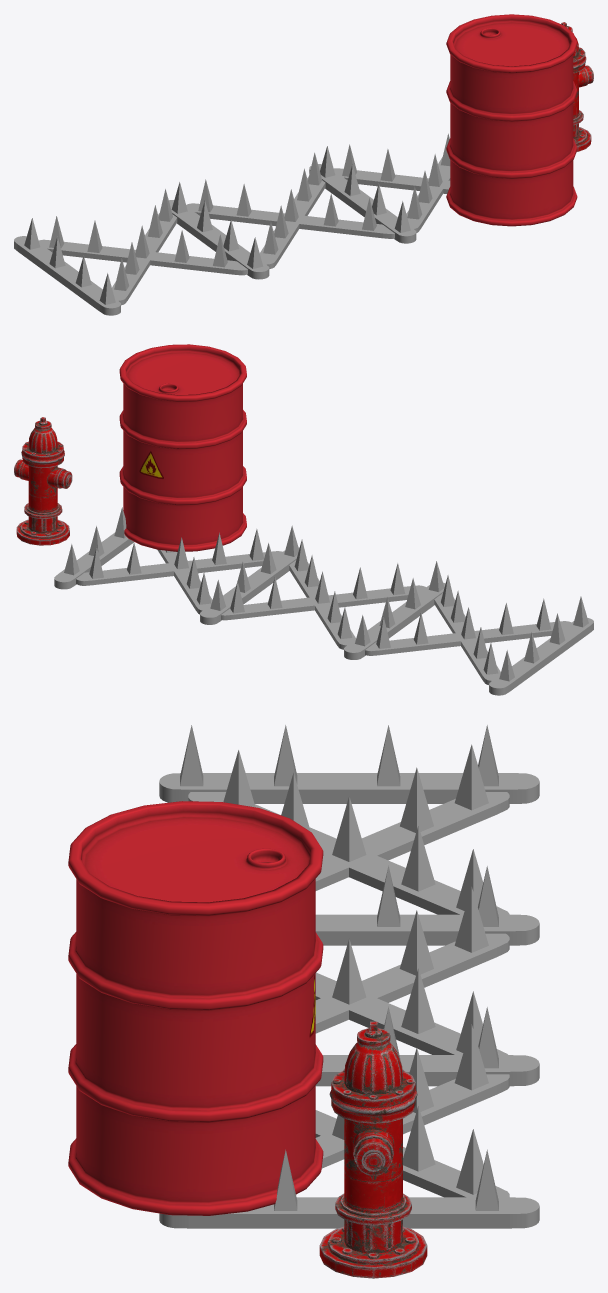
File: Static_hurdles.fbx
3 renders of one model, top to bottom at view 1: azimuth 30°, elevation 25°; view 2: azimuth 150°, elevation 25°; view 3: azimuth 270°, elevation 25°, orthographic. The views are drawn at different scales.
Parts seen in each view (by area): view 1: Oil_drum, Spike19, Fire_Hydrant; view 2: Spike19, Oil_drum, Fire_Hydrant; view 3: Oil_drum, Spike19, Fire_Hydrant.
Boxes of the visible parts, x1,y1,x2,y2 form: Oil_drum: (446,14,577,226); Spike19: (14,133,450,315); Fire_Hydrant: (561,22,593,151); Spike19: (54,507,593,695); Oil_drum: (119,344,246,551); Fire_Hydrant: (14,417,72,545); Oil_drum: (68,801,323,1215); Spike19: (159,725,539,1228); Fire_Hydrant: (319,1021,427,1278).
Size of the model in its own units: 526 by 157 by 203.
Materials: 4 (2 with a texture image).
